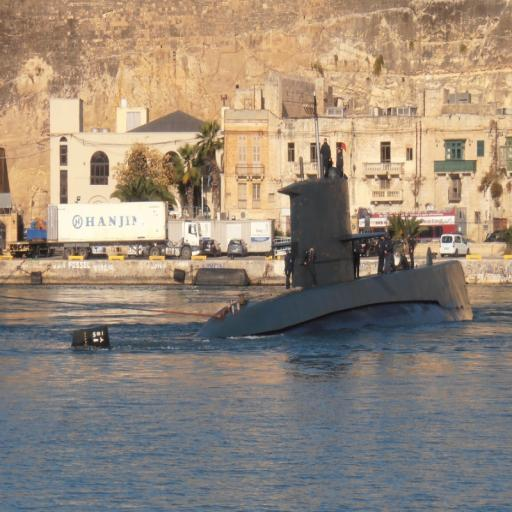submarine: (68, 78, 478, 351)
